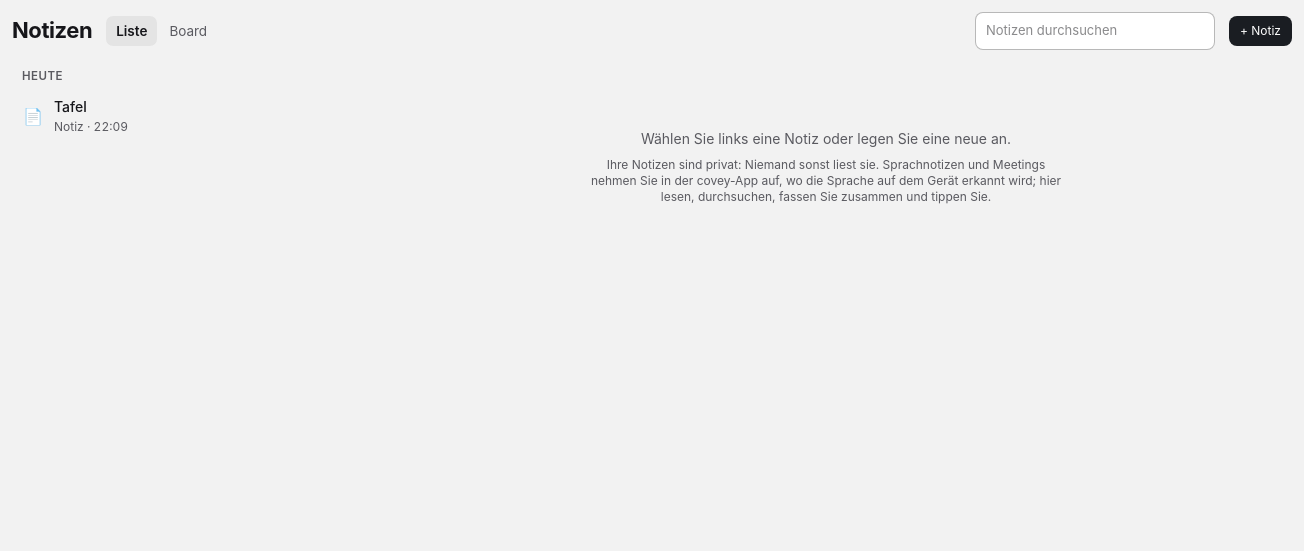
Test case: Bilder in Notizen (#344) › zeigt covey-Bilder über den eigenen Endpunkt und lädt keine fremden
Click the text "Tafel" at (70, 106), box [54, 98, 87, 115]
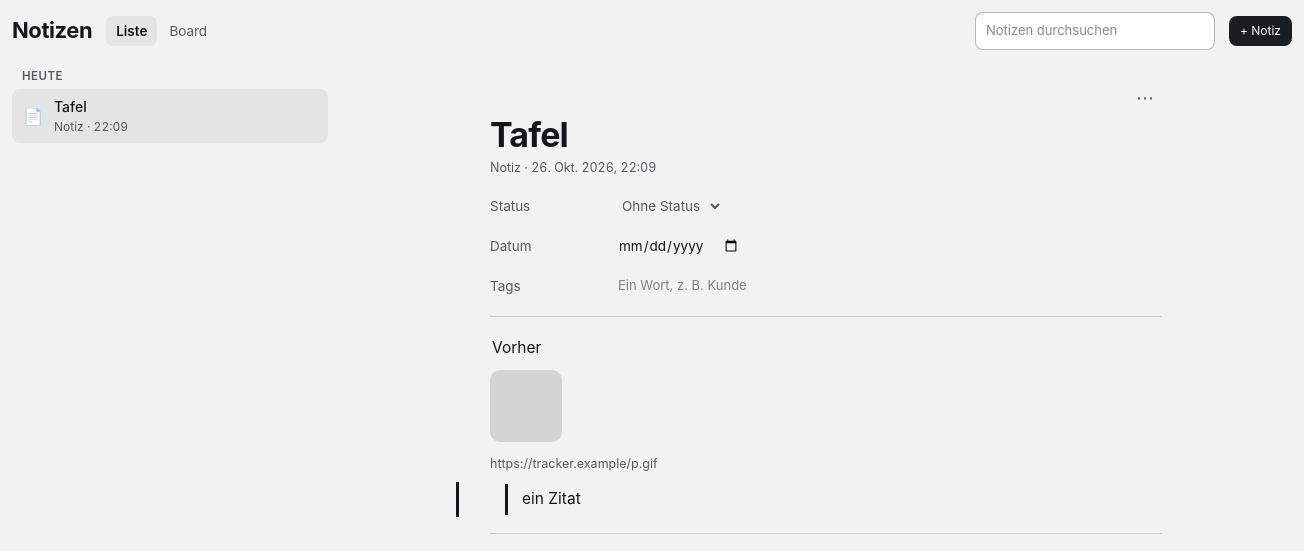
Expected: the text "https://tracker.example/p.gif" is shown, [490, 456, 658, 471]
